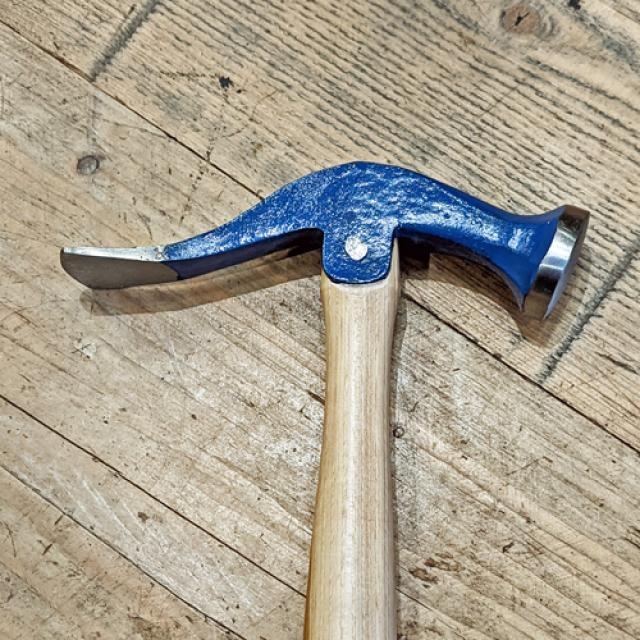hammer: (52, 155, 598, 640)
